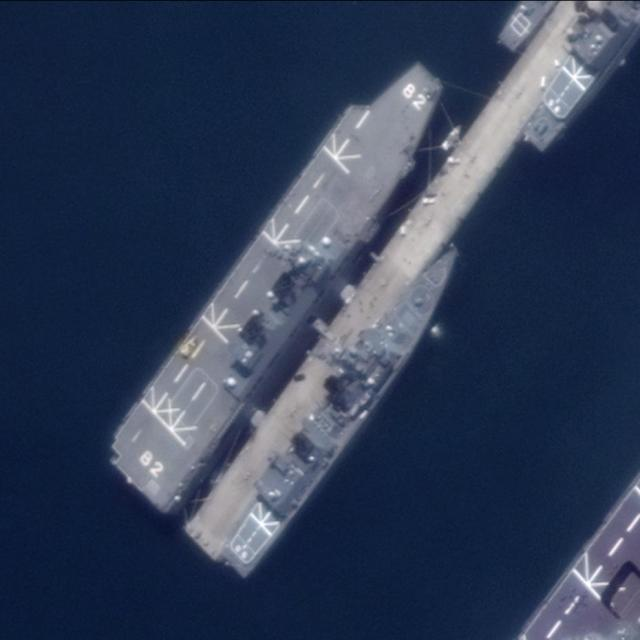Destroyer: (97, 39, 469, 515), (182, 216, 479, 582)
